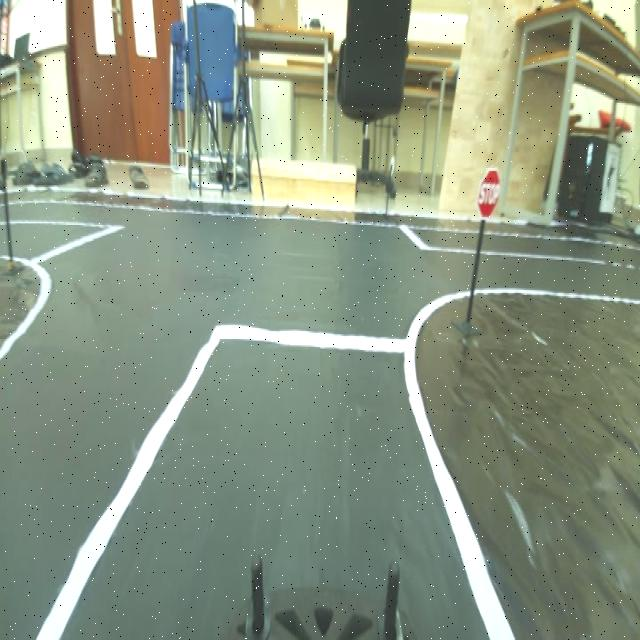stop: (475, 163, 506, 228)
